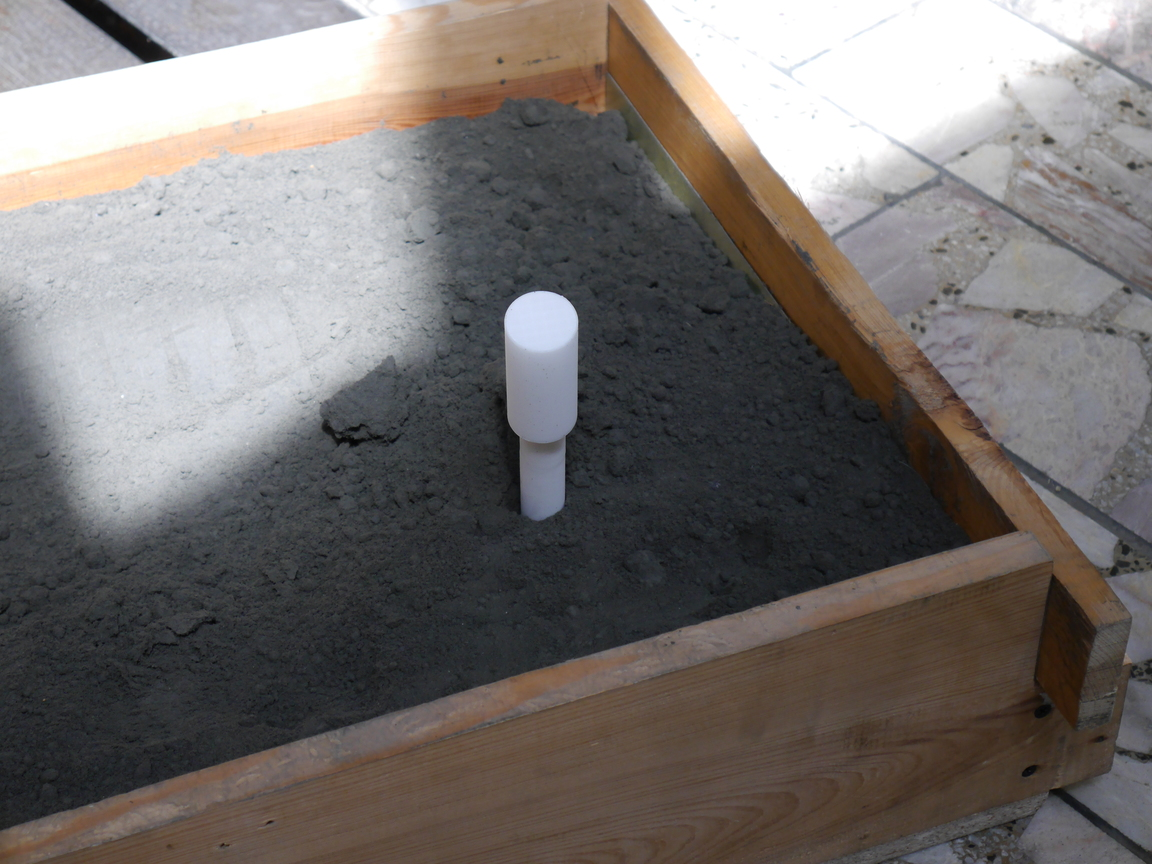cargo_g: (502, 291, 580, 526)
